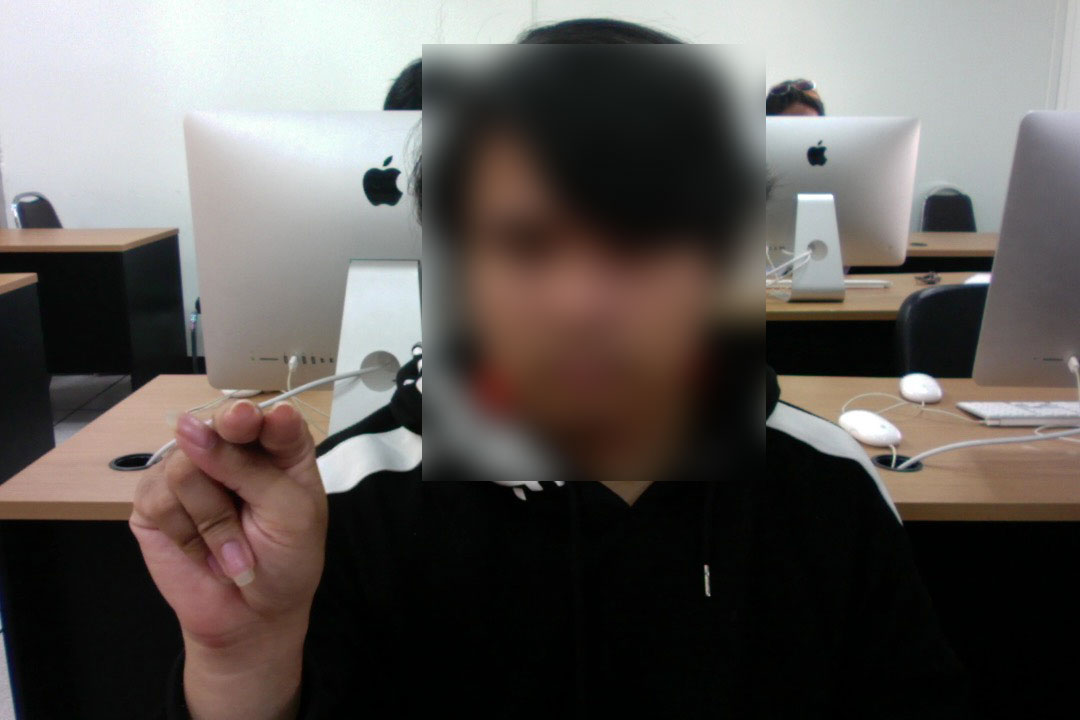nor: (118, 393, 341, 658)
